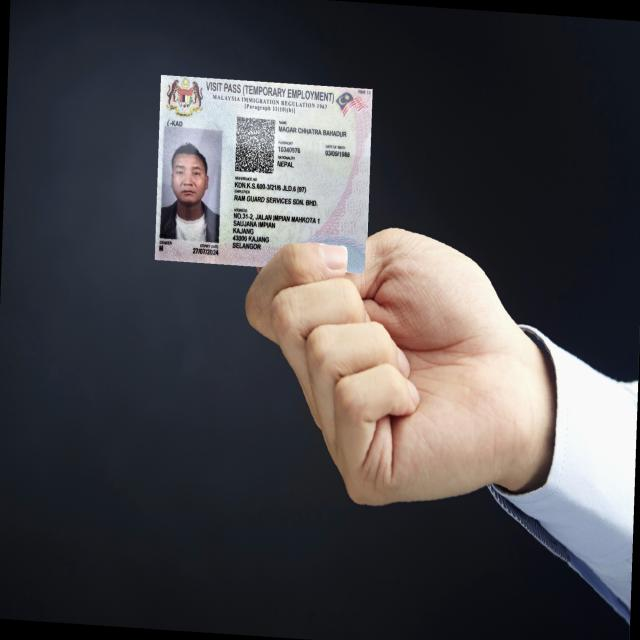ikad-temp: (154, 74, 373, 274)
